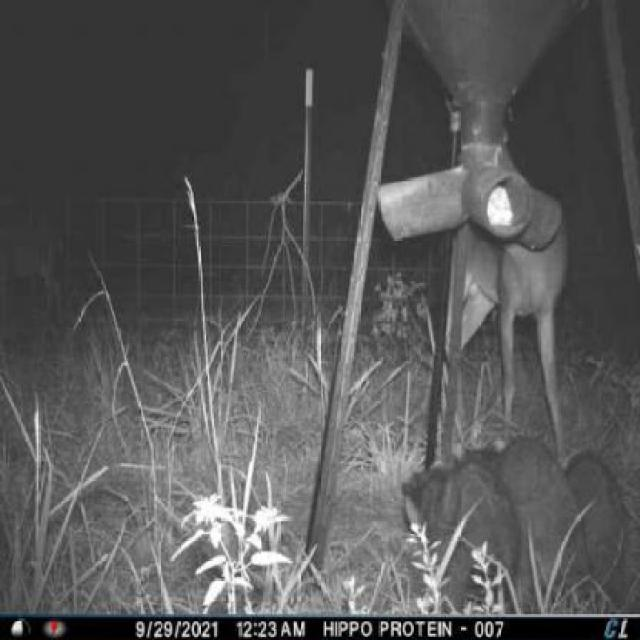Deer: (436, 156, 582, 472)
